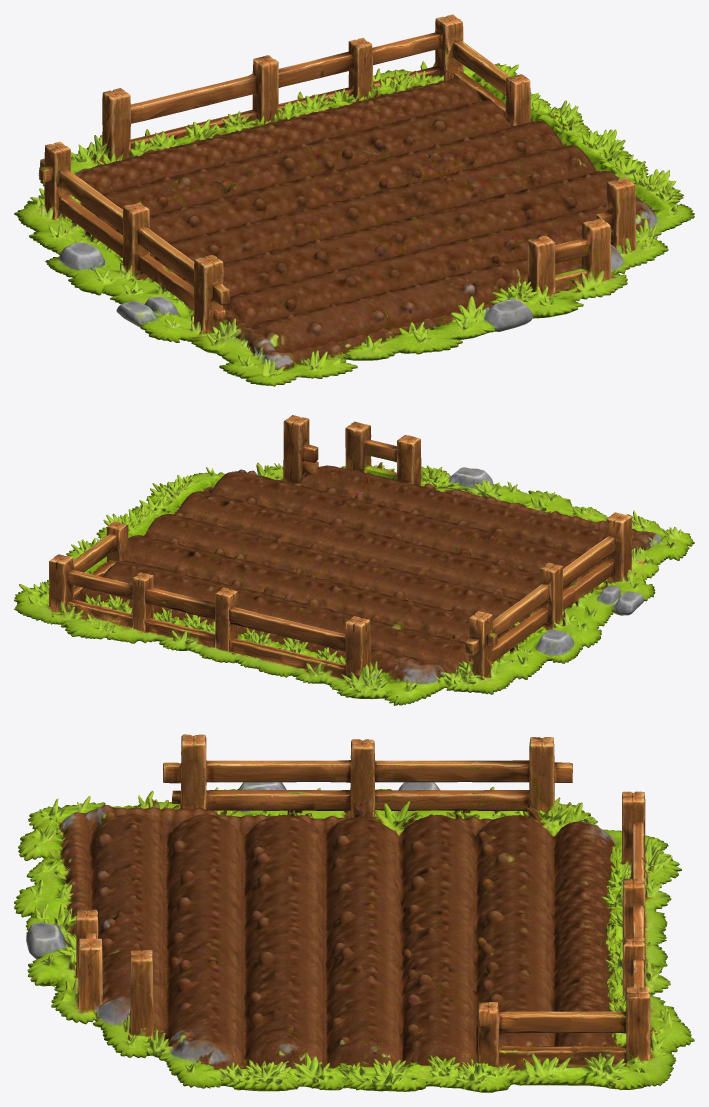
Rendered from granja_e2.glb.
3 views of the same model, one above another, from view 1: azimuth 30°, elevation 25°; view 2: azimuth 150°, elevation 25°; view 3: azimuth 270°, elevation 25° (orthographic). The views are drawn at different scales.
Parts seen in each view (by area): view 1: Mesh_0.001; view 2: Mesh_0.001; view 3: Mesh_0.001.
Part boxes in pixels (<box>): Mesh_0.001: <box>14,14,694,386</box>; Mesh_0.001: <box>14,415,694,705</box>; Mesh_0.001: <box>14,734,694,1092</box>.
Size of the model in its own units: 0.4745 by 0.0599 by 0.4468.
1 material, 1 textured.
